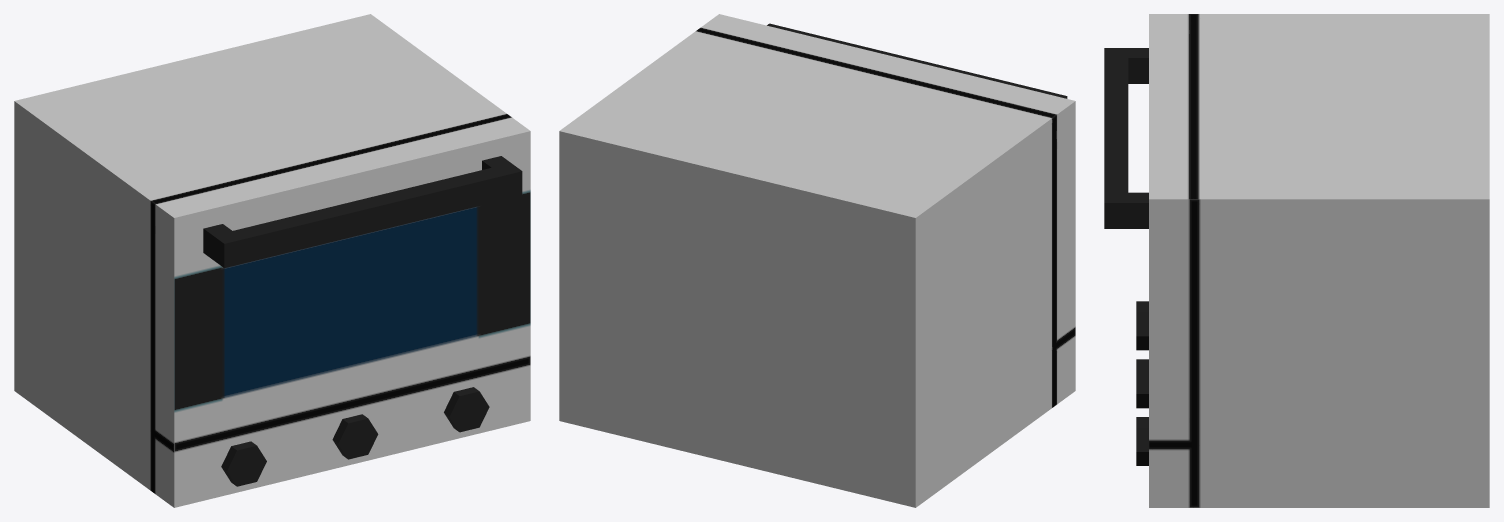
Rendered from oven2_PLY.fbx.
3 renders of one model, left to right at view 1: azimuth 30°, elevation 25°; view 2: azimuth 150°, elevation 25°; view 3: azimuth 270°, elevation 25°, orthographic. The views are drawn at different scales.
Visible parts, largest first — view 1: oven2_PLY; view 2: oven2_PLY; view 3: oven2_PLY.
Part boxes in pixels (<box>): oven2_PLY: <box>14,14,530,507</box>; oven2_PLY: <box>559,14,1075,507</box>; oven2_PLY: <box>1104,14,1489,507</box>.
Size of the model in its own units: 2.25 by 1.75 by 1.98.
